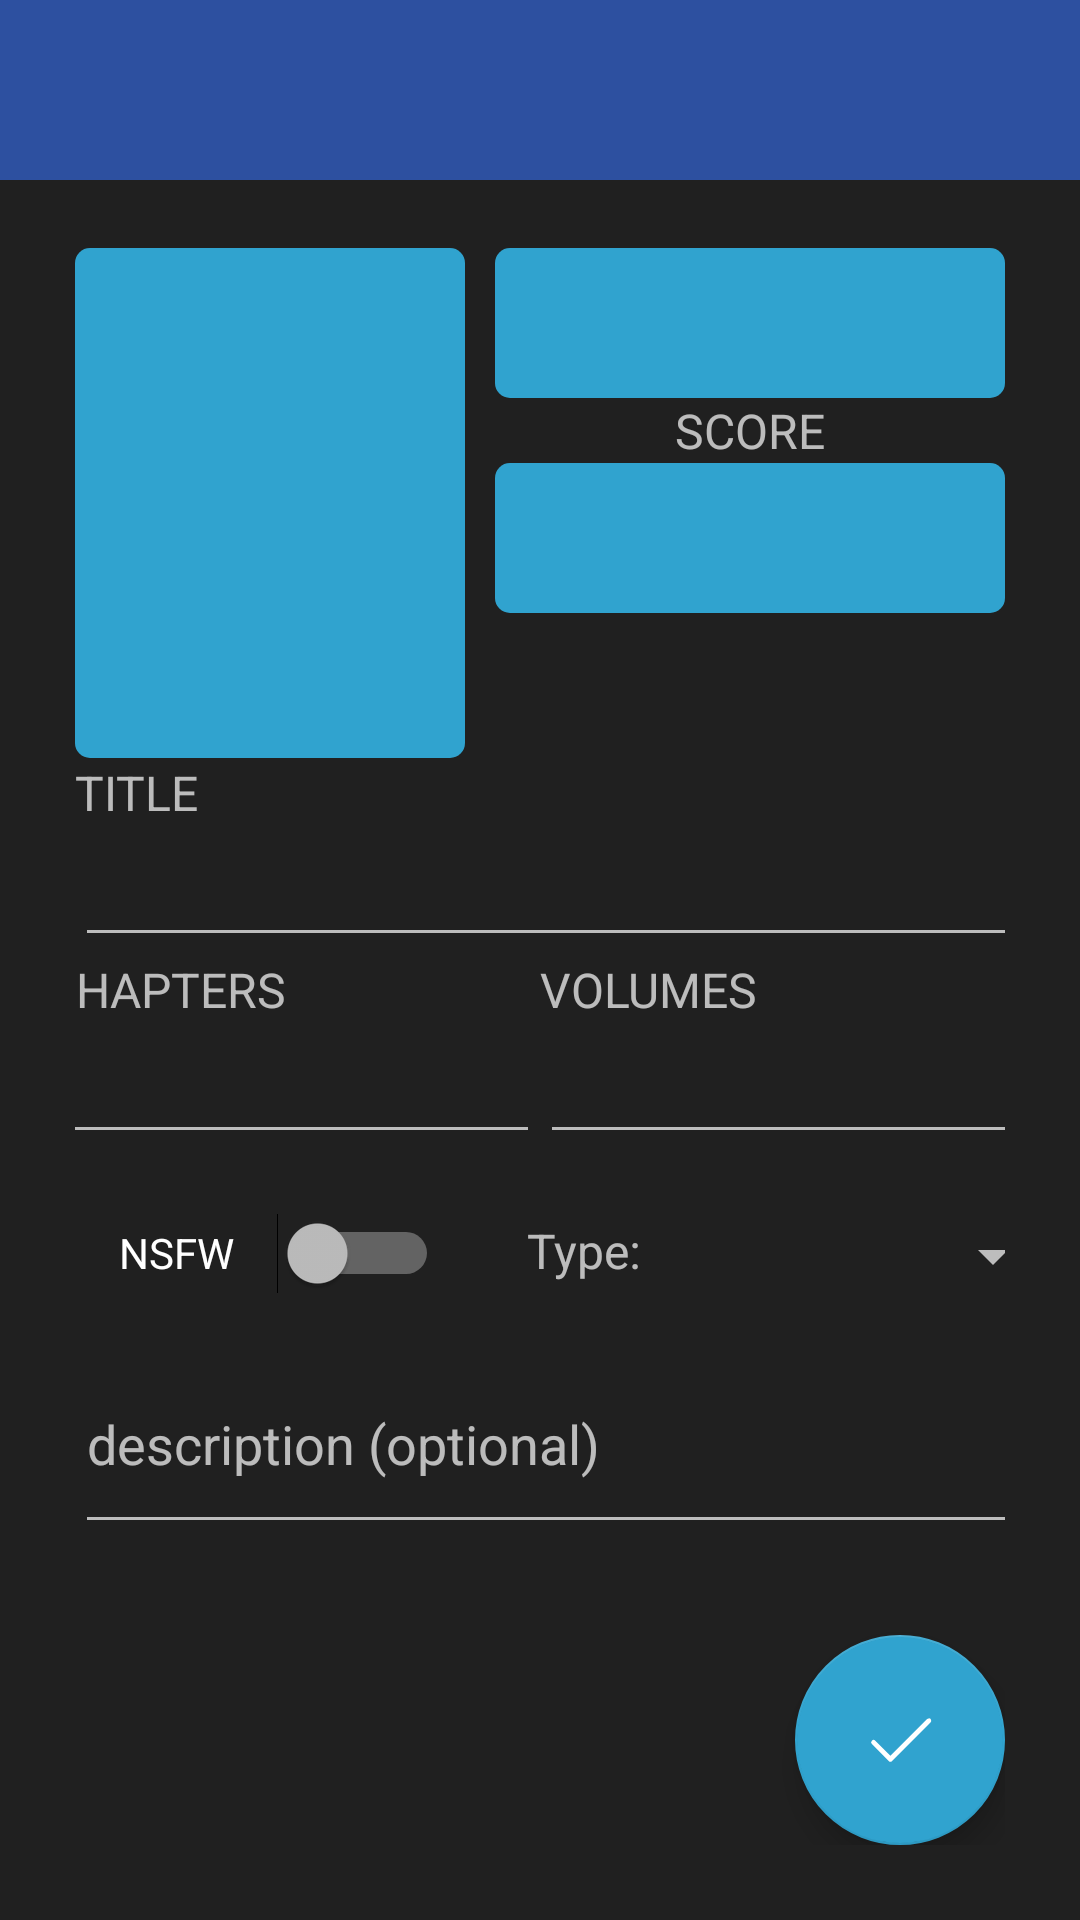

Named icons in this screenshot (1080×1920) and their centers, point (x, y):
tick: point (900, 1740)
